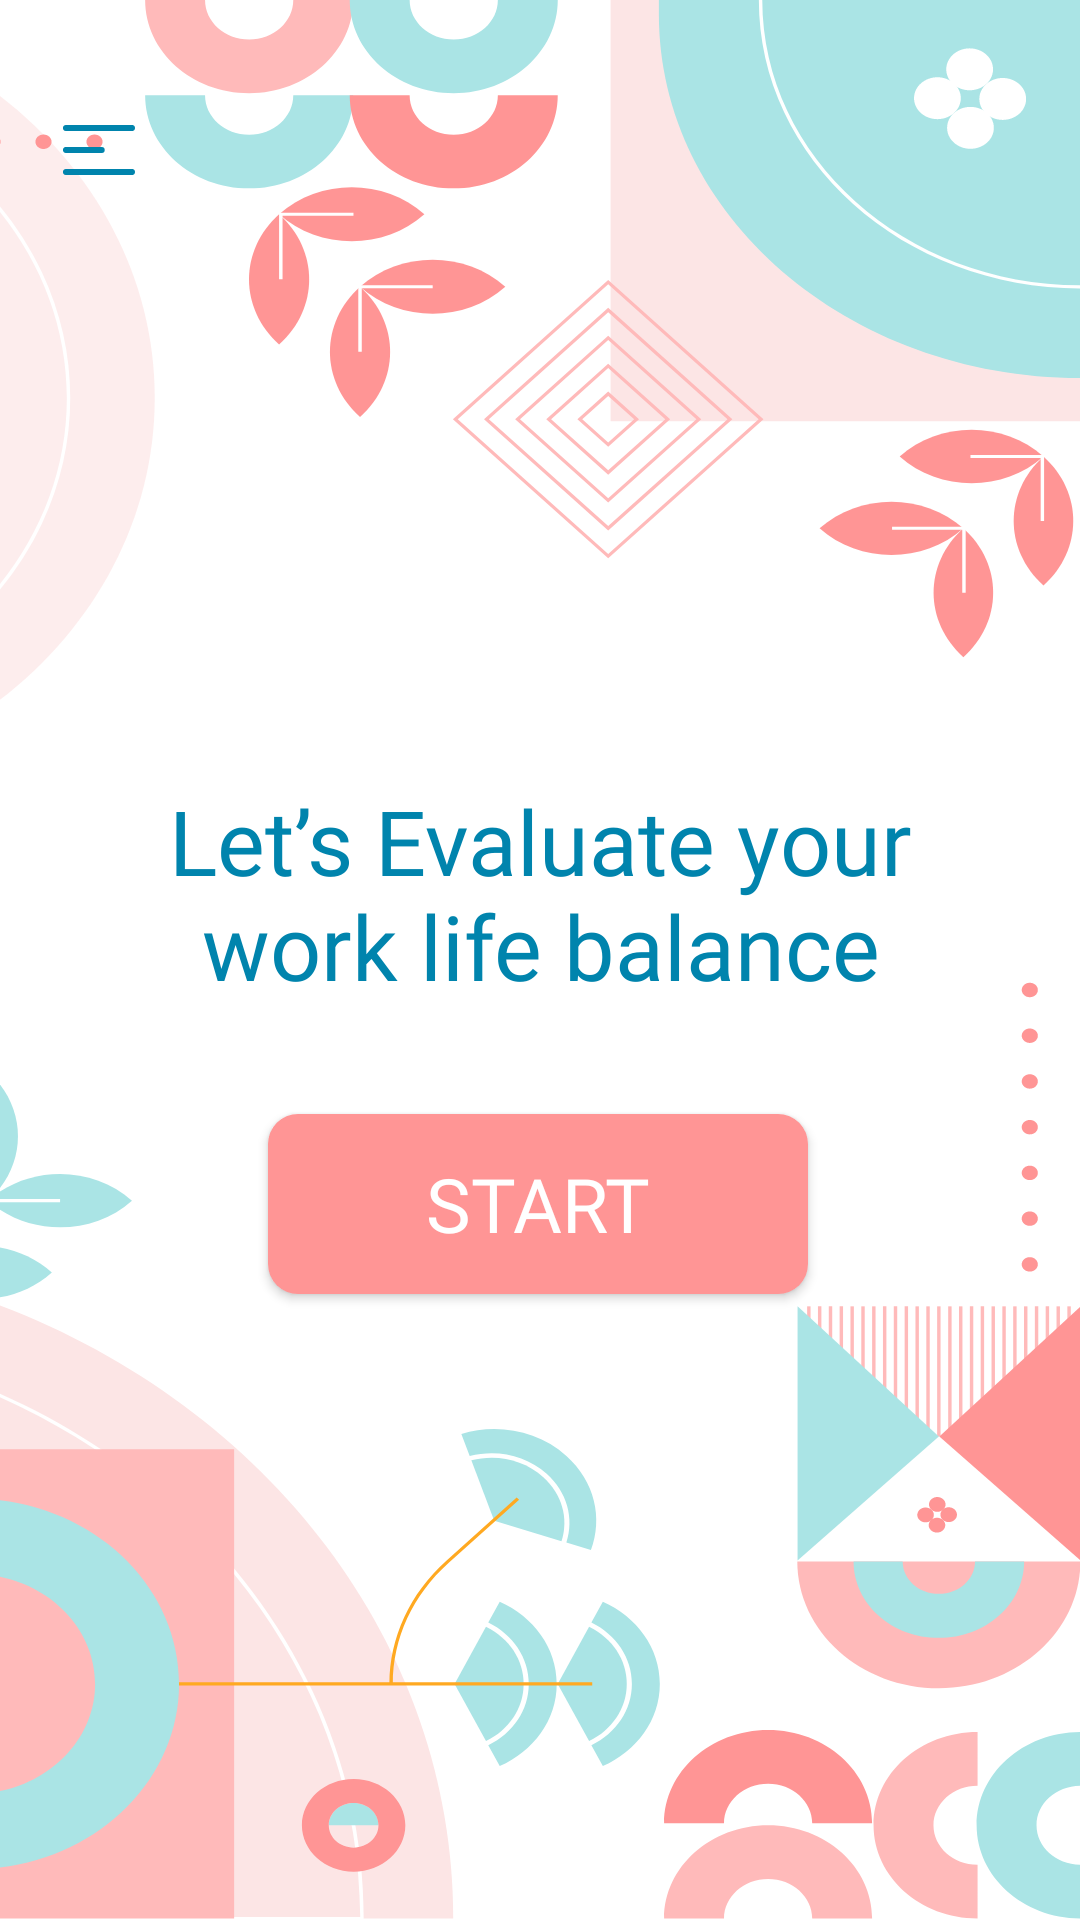

Icons on this 1080 x 1920 Android screen, each with the point to tap as [x,y]:
hamburger: [99,150]
